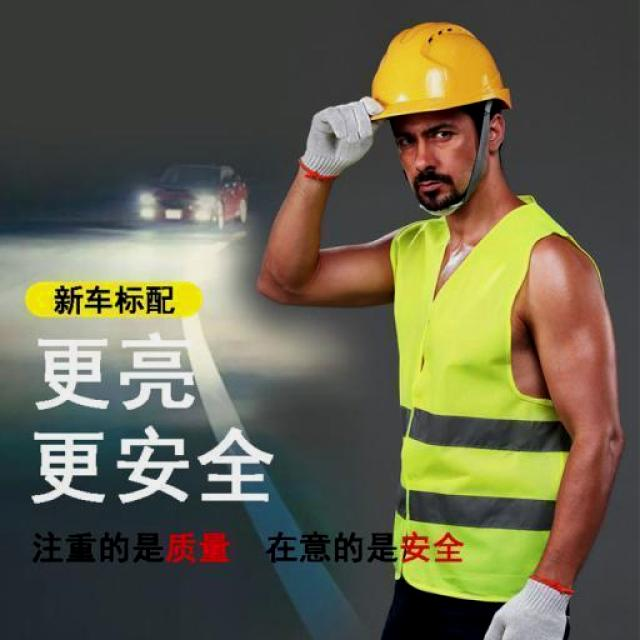face_nomask: (390, 119, 468, 207)
hand_glove: (303, 88, 385, 180)
head_helmet: (357, 14, 519, 122)
person: (240, 6, 630, 640)
vest: (394, 197, 572, 595)
